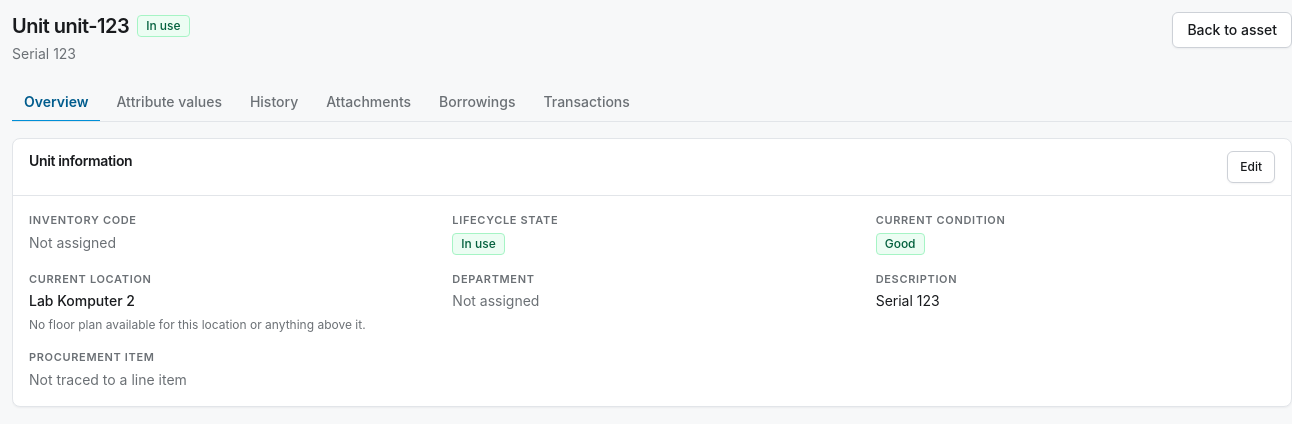
Test: AssetUnitDetailPage › labels a REPORT row as coming from a report
This screenshot has width=1292, height=424.
Click the tab "History" at (274, 103), box top-left (238, 84), bottom-right (310, 122)
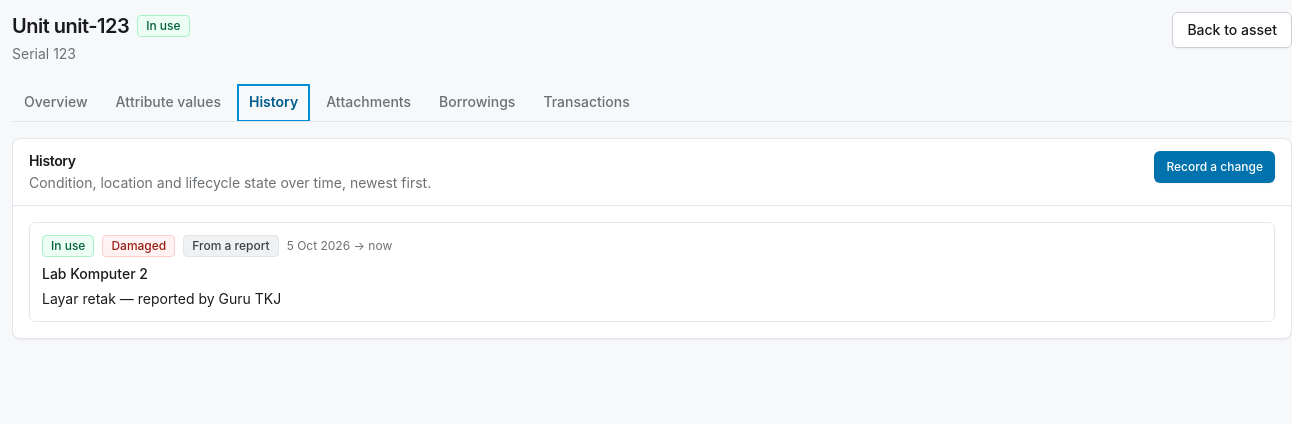
Check: the text "From a report" is shown, box top-left (183, 235), bottom-right (279, 257)
Check: the text "Layar retak — reported by Guru TKJ" is shown, box top-left (42, 290), bottom-right (281, 307)
